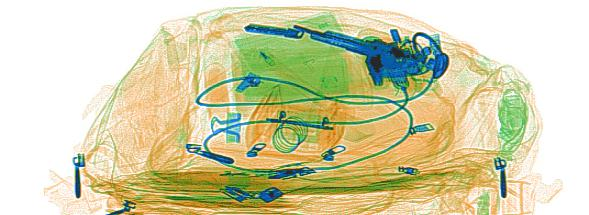seal: (245, 82, 346, 160)
